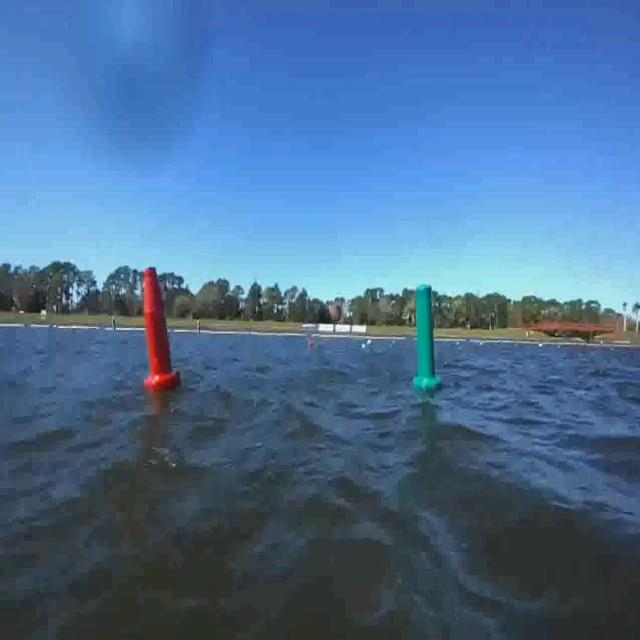green-column-buoy: (414, 282, 442, 392)
red-column-buoy: (141, 266, 179, 393)
